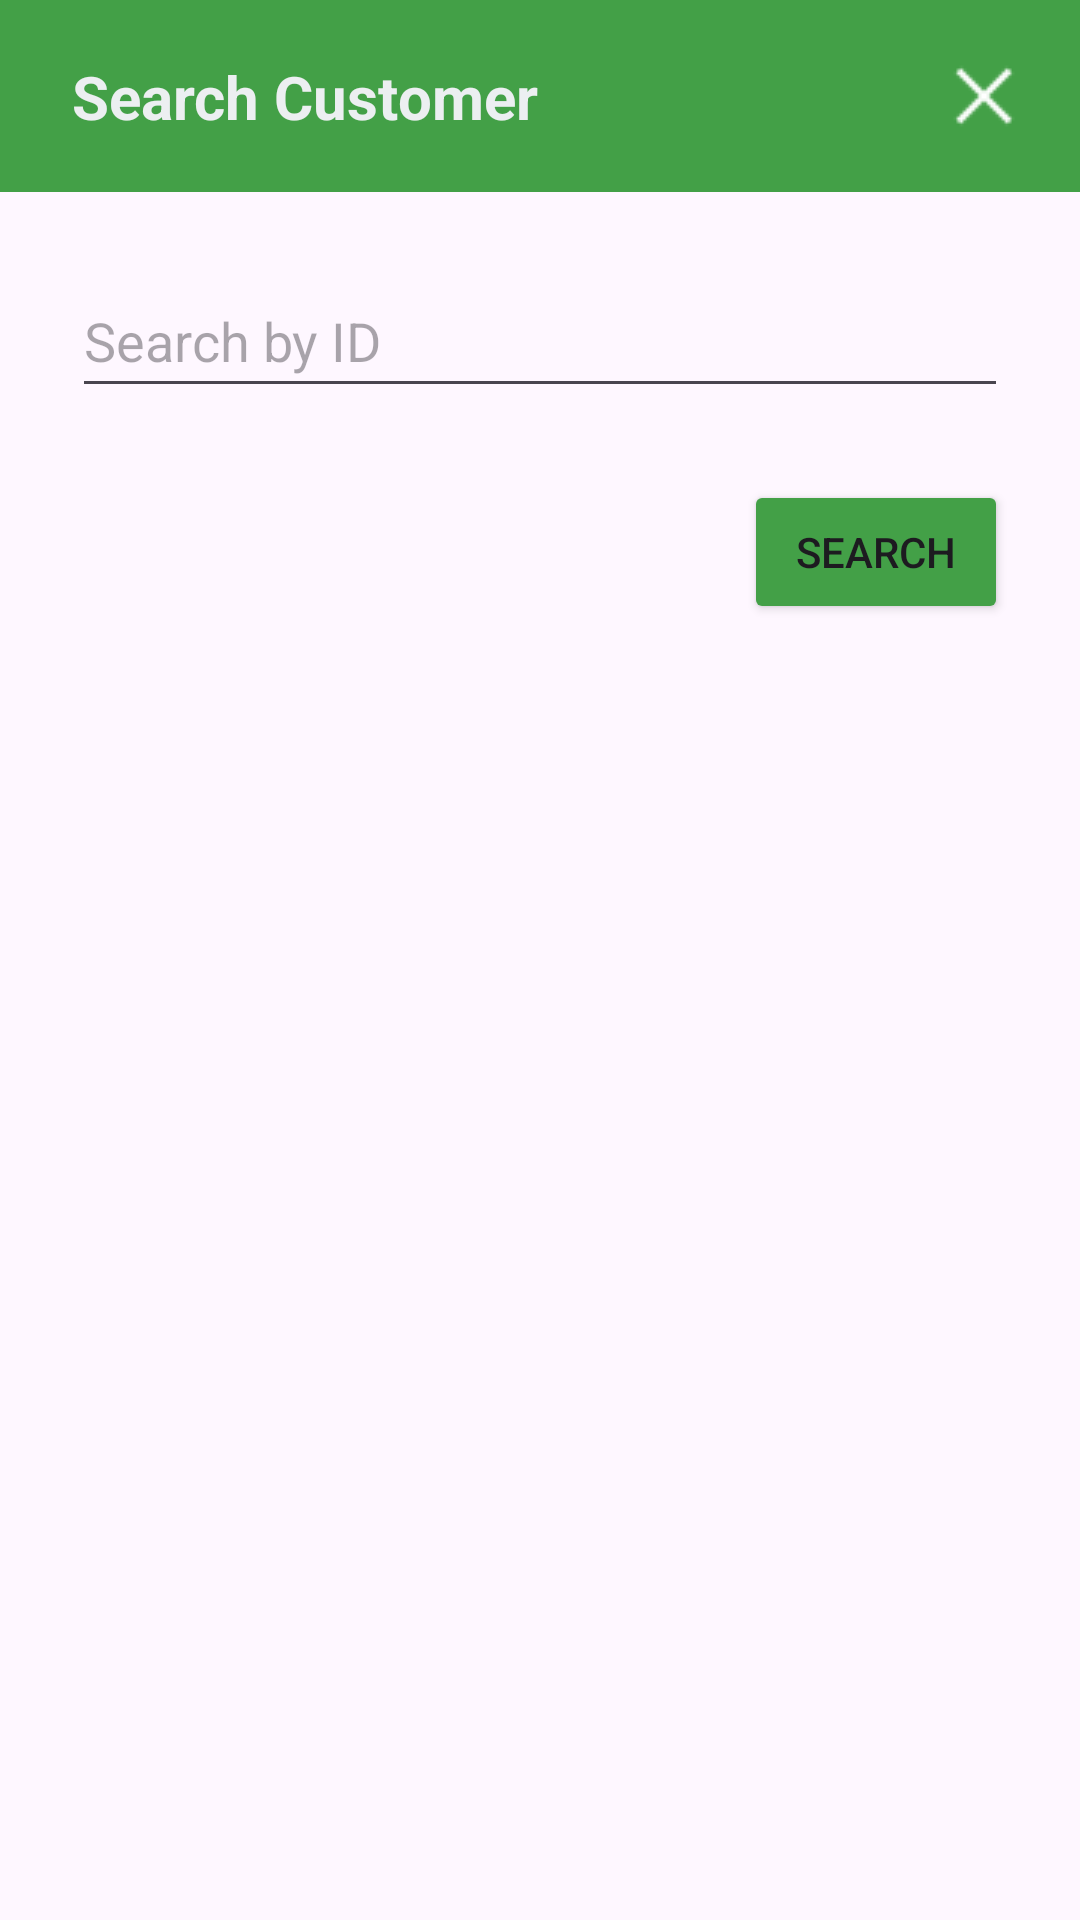

Screen size 1080px x 1920px. Icon name, then its center in pixels as point (x, y):
Close: point (984, 96)
